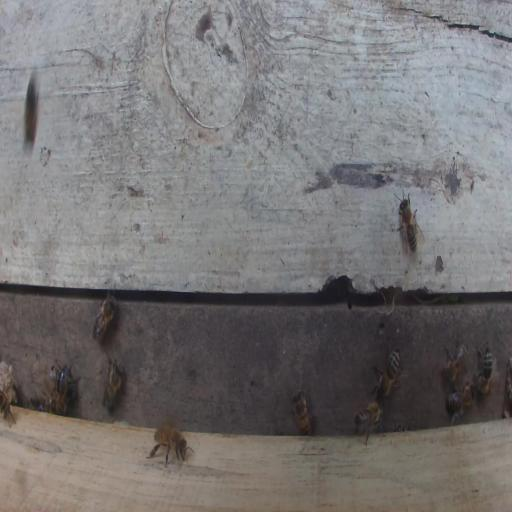nonpollenbee: (392, 184, 425, 260), (150, 422, 195, 466), (46, 362, 80, 413), (372, 348, 402, 399), (92, 288, 118, 342), (354, 400, 383, 447), (24, 68, 40, 149), (442, 339, 468, 385), (103, 359, 125, 412), (446, 381, 475, 421), (473, 342, 493, 395), (291, 387, 312, 436)
